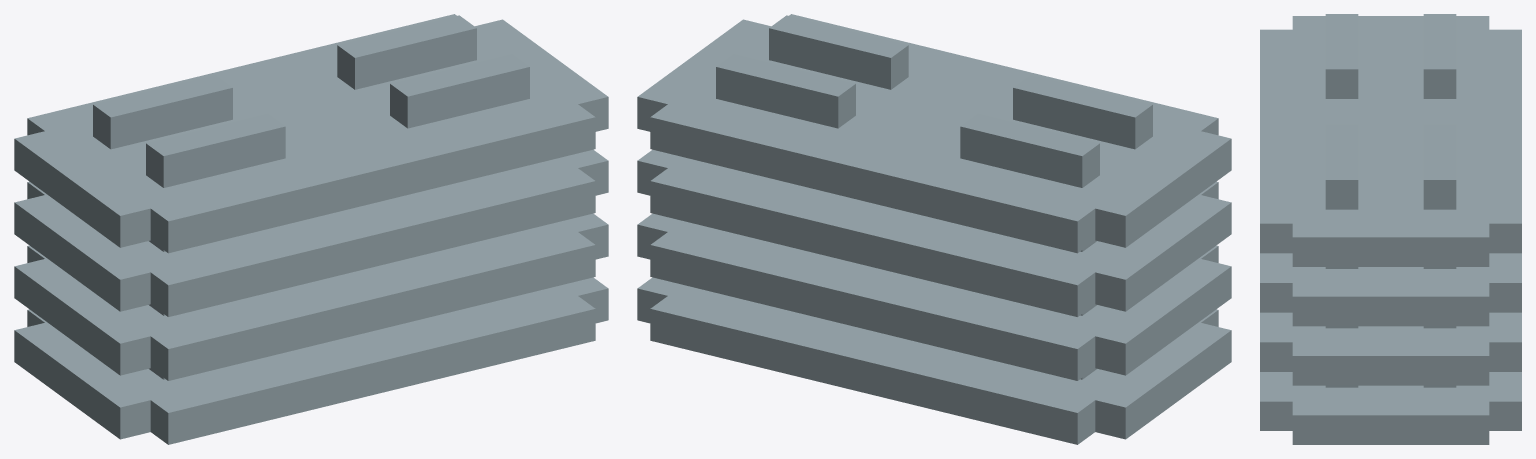
Rendered from plastic.obj.
3 renders of one model, left to right at view 1: azimuth 30°, elevation 25°; view 2: azimuth 150°, elevation 25°; view 3: azimuth 270°, elevation 25°, orthographic. The views are drawn at different scales.
Bounding box in the file's own units: 1.6 × 0.8 × 0.8.
